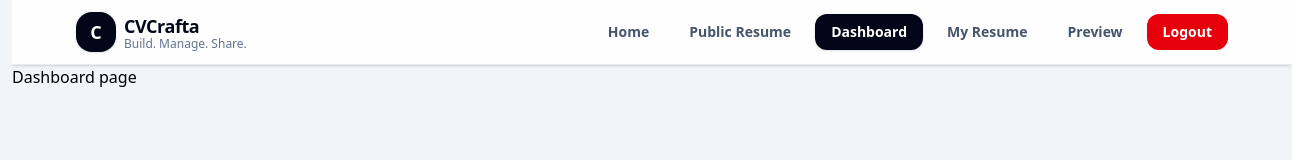
Test: AppNavbar › logs the user out and redirects to the login page
Click the button "Logout". click: (1187,32)
box: [1147, 14, 1228, 50]
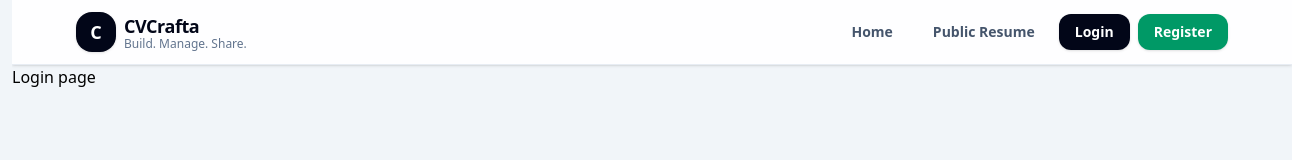
Check: the text "Login page" is shown, box [12, 66, 96, 88]
